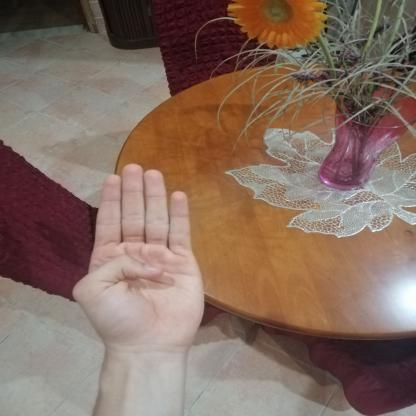KAAF: (54, 154, 221, 368)
